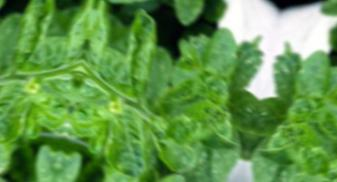Tomato leaf mosaic virus: (92, 98, 159, 182), (118, 3, 167, 93), (204, 63, 236, 109), (137, 165, 192, 182)
